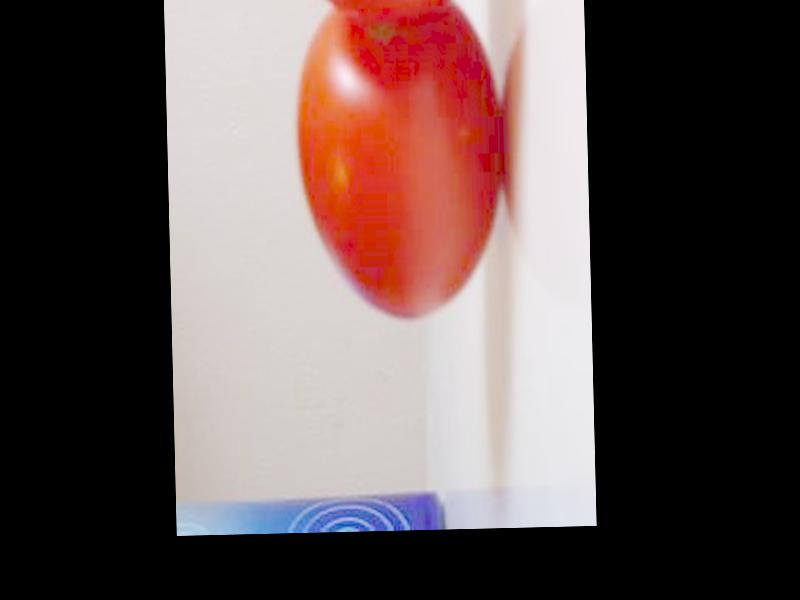Tomato: (294, 3, 508, 320)
